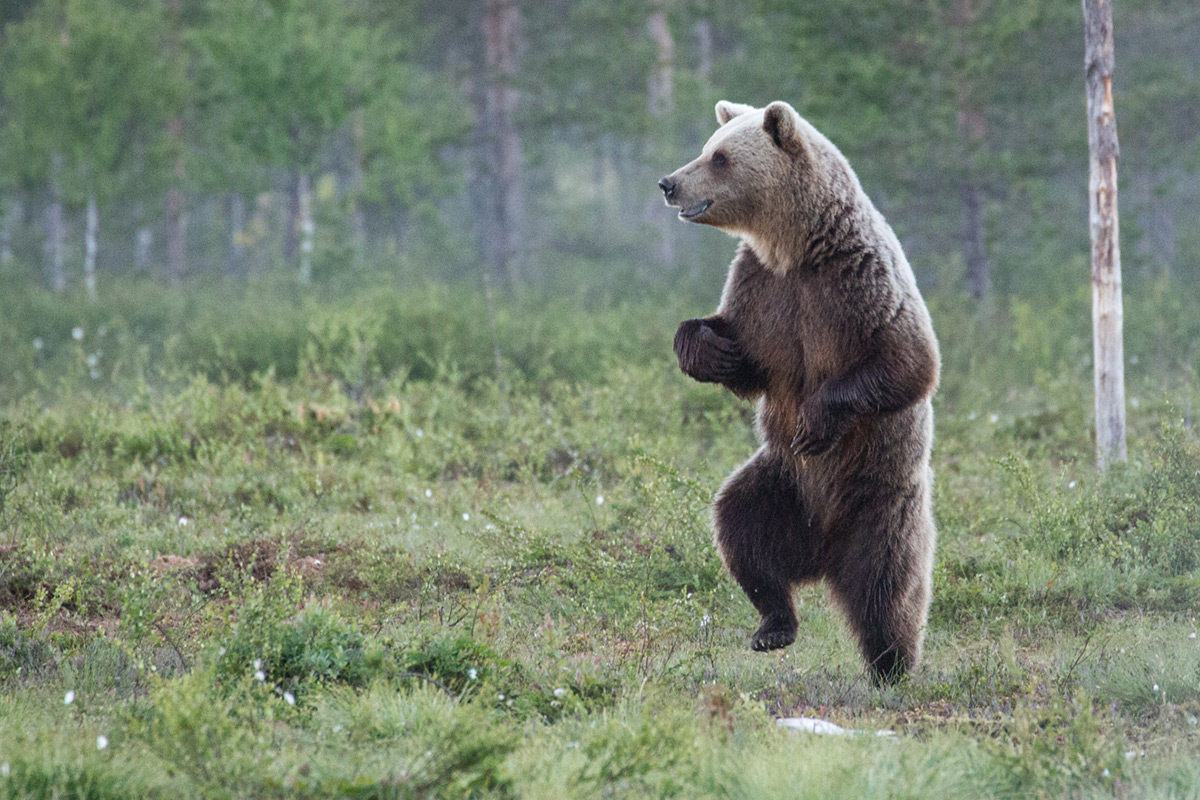bear: (651, 87, 941, 693)
